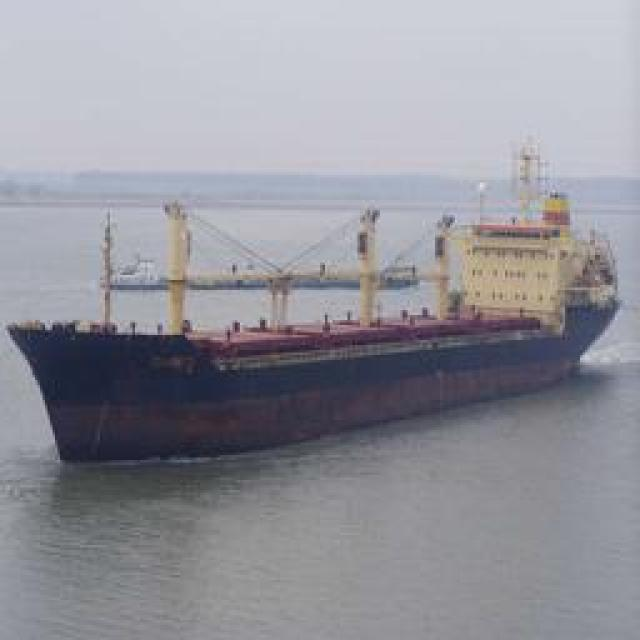CIV_Ship: (10, 195, 628, 475)
